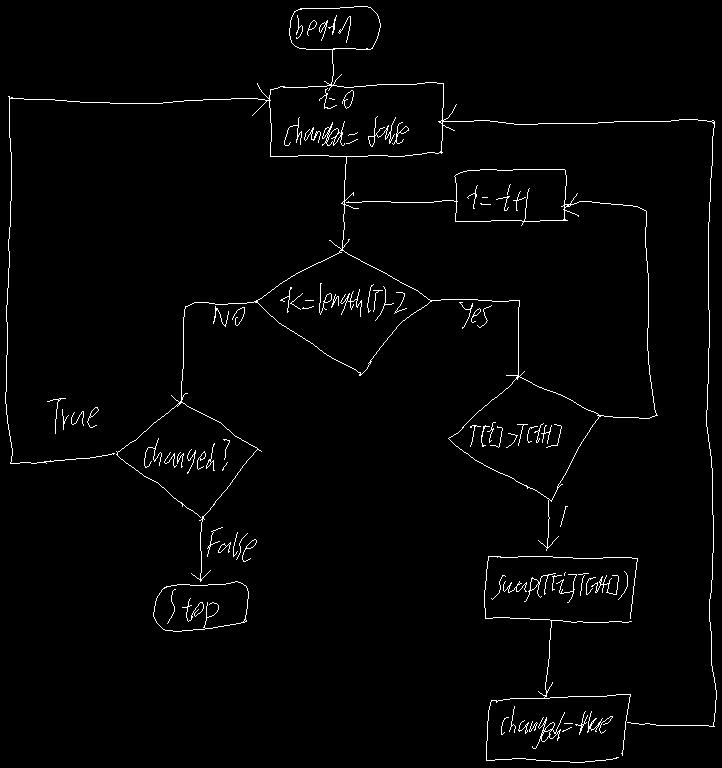arrow: (438, 104, 716, 726), (5, 83, 270, 463), (561, 193, 657, 418), (171, 301, 257, 406), (430, 299, 524, 377), (329, 156, 349, 251), (341, 192, 457, 208), (191, 516, 210, 581), (538, 621, 552, 697), (538, 500, 558, 550), (324, 48, 341, 90)
decision: (256, 249, 431, 375), (448, 375, 600, 501), (116, 401, 261, 520)
process: (269, 82, 443, 156), (484, 556, 637, 622), (486, 694, 630, 762), (454, 169, 567, 221)
terminator: (153, 581, 248, 631), (289, 6, 380, 49)
text: (284, 88, 408, 146), (280, 283, 406, 320), (501, 706, 612, 748), (491, 571, 627, 602), (144, 438, 229, 473), (467, 184, 529, 225), (470, 422, 561, 447), (167, 589, 218, 627), (47, 398, 98, 433), (207, 527, 256, 561), (296, 15, 350, 42), (459, 302, 491, 328), (213, 306, 244, 326), (560, 506, 567, 526)
